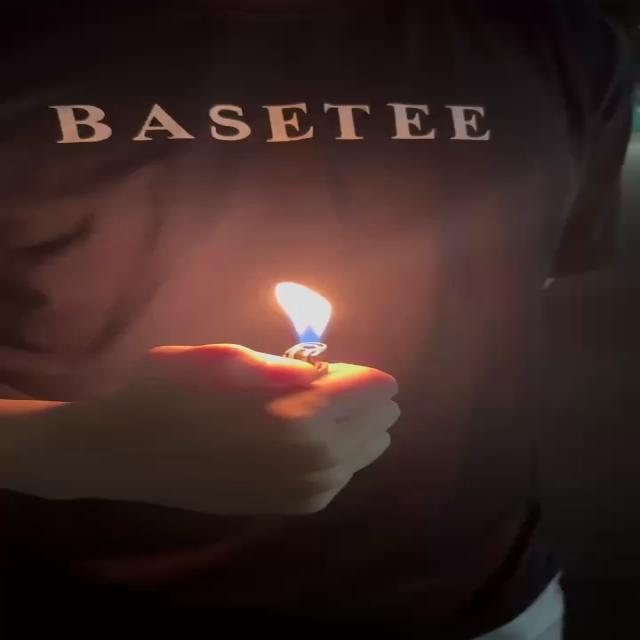Fire: (274, 280, 338, 351)
